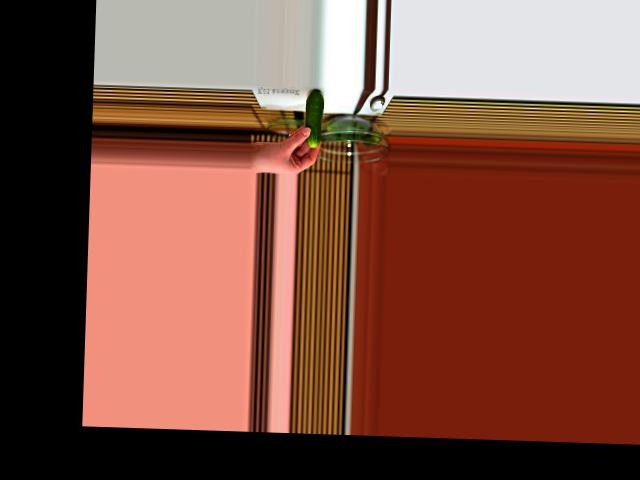cucumber: (304, 89, 324, 147)
